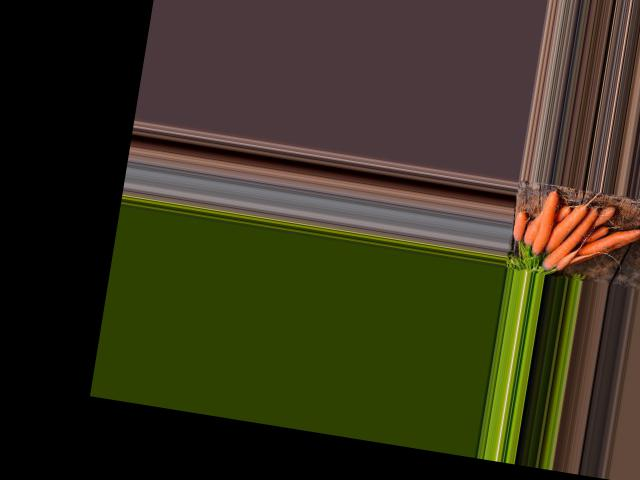carrot: (577, 217, 640, 264)
